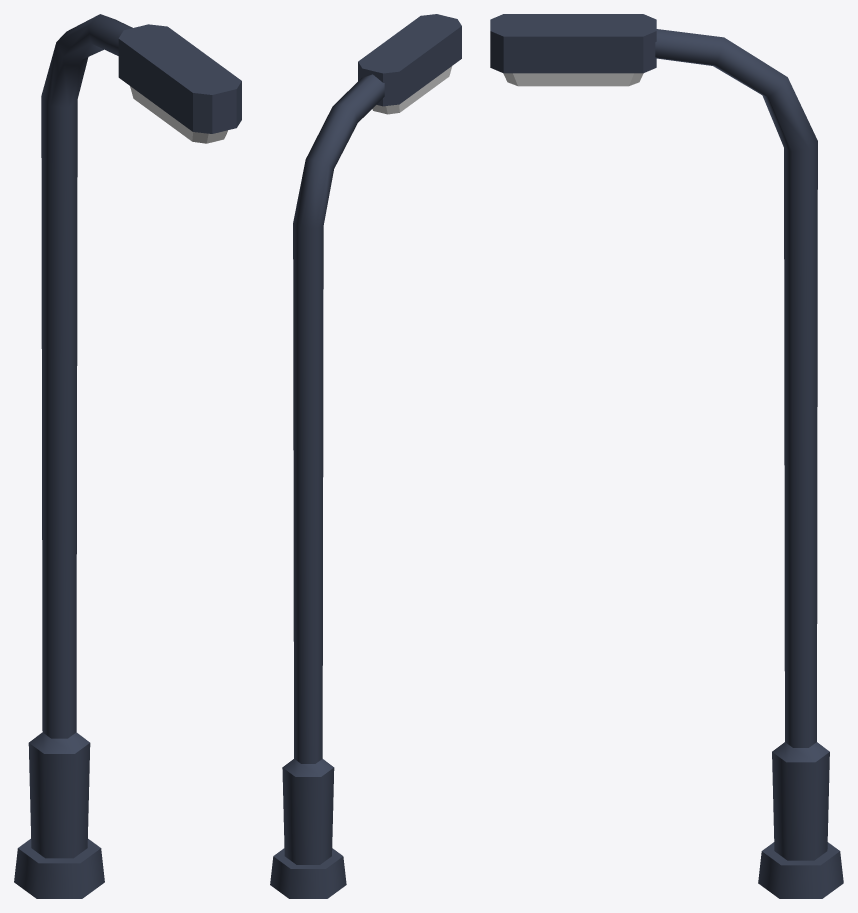
Rendered from lump.fbx.
3 views of the same model, side by side, from view 1: azimuth 30°, elevation 25°; view 2: azimuth 150°, elevation 25°; view 3: azimuth 270°, elevation 25° (orthographic). The views are drawn at different scales.
Visible parts, largest first — view 1: lump; view 2: lump; view 3: lump.
Boxes of the visible parts, x1,y1,x2,y2 form: lump: (14, 14, 241, 898); lump: (270, 14, 461, 898); lump: (490, 14, 843, 898).
Size of the model in its own units: 35.09 by 448 by 167.
